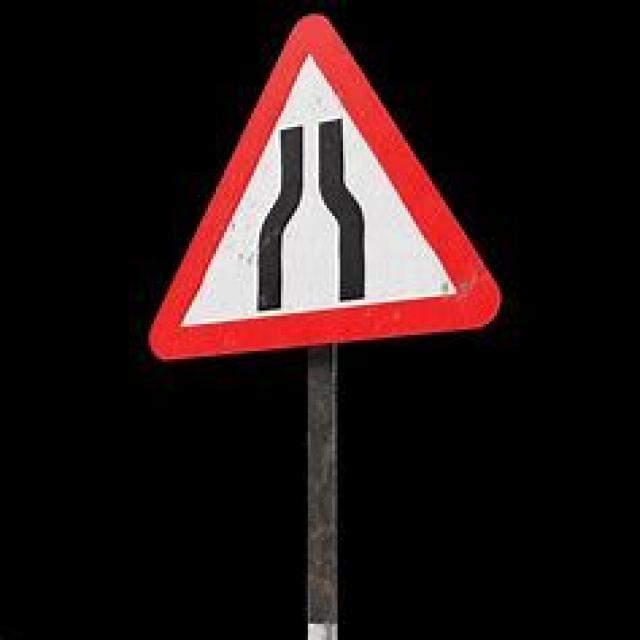NARROW_ROAD_AHEAD: (146, 14, 502, 359)
